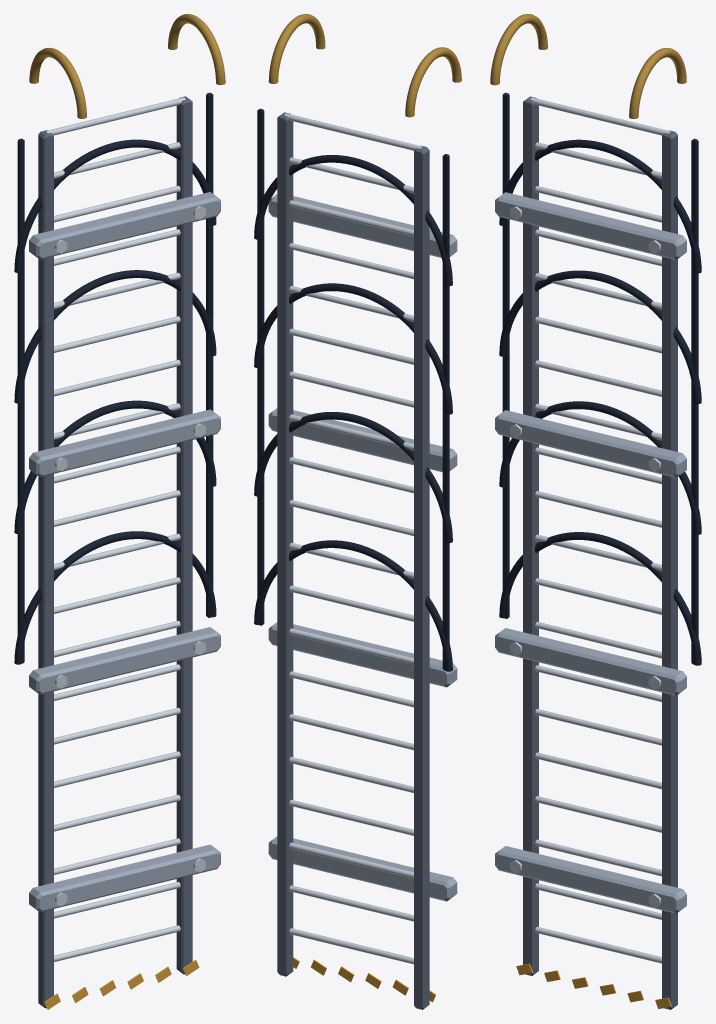
The model's file is shared_ladder.glb.
3 renders of one model, left to right at view 1: azimuth 30°, elevation 25°; view 2: azimuth 150°, elevation 25°; view 3: azimuth 330°, elevation 25°, orthographic.
Parts seen in each view (by area): view 1: ladder_stringer1, ladder_stringer-1, ladder_flange1, ladder_flange2, ladder_flange0, ladder_flange3, ladder_hoop_rail-1, ladder_hoop_rail1, ladder_hoop0, ladder_hoop2, ladder_hoop3, ladder_hoop1 (+23 smaller); view 2: ladder_stringer1, ladder_stringer-1, ladder_hoop_rail1, ladder_flange0, ladder_hoop_rail-1, ladder_flange1, ladder_flange3, ladder_flange2, ladder_hoop2, ladder_hoop0, ladder_hoop3, ladder_hoop1 (+23 smaller); view 3: ladder_stringer1, ladder_stringer-1, ladder_flange2, ladder_flange1, ladder_flange3, ladder_flange0, ladder_hoop_rail1, ladder_hoop_rail-1, ladder_hoop2, ladder_hoop0, ladder_hoop3, ladder_hoop1 (+23 smaller).
Part boxes in pixels (<box>): ladder_stringer1: <box>176,96,192,974</box>; ladder_stringer-1: <box>38,130,53,1008</box>; ladder_flange1: <box>29,627,220,694</box>; ladder_flange2: <box>29,409,220,476</box>; ladder_flange0: <box>29,844,220,912</box>; ladder_flange3: <box>29,192,220,259</box>; ladder_hoop_rail-1: <box>17,138,24,663</box>; ladder_hoop_rail1: <box>206,92,213,617</box>; ladder_hoop0: <box>14,531,216,664</box>; ladder_hoop2: <box>14,270,216,403</box>; ladder_hoop3: <box>14,139,216,272</box>; ladder_hoop1: <box>14,400,216,533</box>; ladder_stringer1: <box>277,112,293,976</box>; ladder_stringer-1: <box>414,145,429,1009</box>; ladder_hoop_rail1: <box>257,108,264,625</box>; ladder_flange0: <box>268,836,457,901</box>; ladder_hoop_rail-1: <box>442,154,449,670</box>; ladder_flange1: <box>268,622,457,687</box>; ladder_flange3: <box>268,194,457,257</box>; ladder_flange2: <box>268,408,457,472</box>; ladder_hoop2: <box>254,283,452,414</box>; ladder_hoop0: <box>254,540,452,671</box>; ladder_hoop3: <box>254,155,452,286</box>; ladder_hoop1: <box>254,412,452,543</box>; ladder_stringer1: <box>662,130,677,1009</box>; ladder_stringer-1: <box>523,96,538,975</box>; ladder_flange2: <box>495,410,686,477</box>; ladder_flange1: <box>495,628,686,695</box>; ladder_flange3: <box>495,192,686,259</box>; ladder_flange0: <box>495,846,686,913</box>; ladder_hoop_rail1: <box>691,138,698,664</box>; ladder_hoop_rail-1: <box>502,92,509,618</box>; ladder_hoop2: <box>499,270,701,404</box>; ladder_hoop0: <box>499,532,701,665</box>; ladder_hoop3: <box>499,139,701,273</box>; ladder_hoop1: <box>499,401,701,534</box>.
Bounding box in the file's own units: 1.45 × 6.64 × 0.66.
